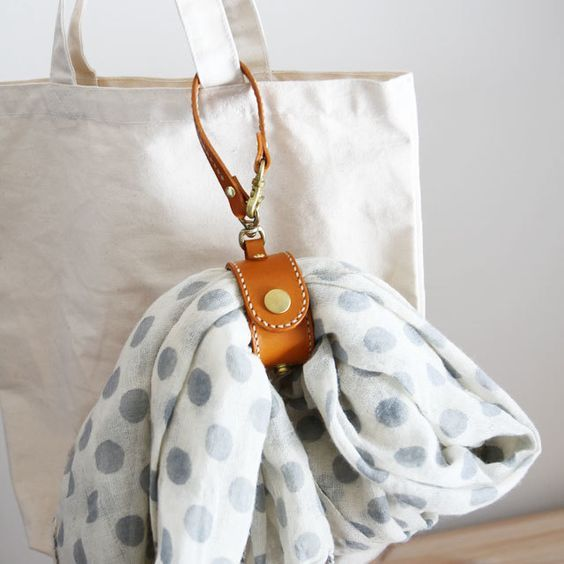cuero: (190, 61, 315, 366)
